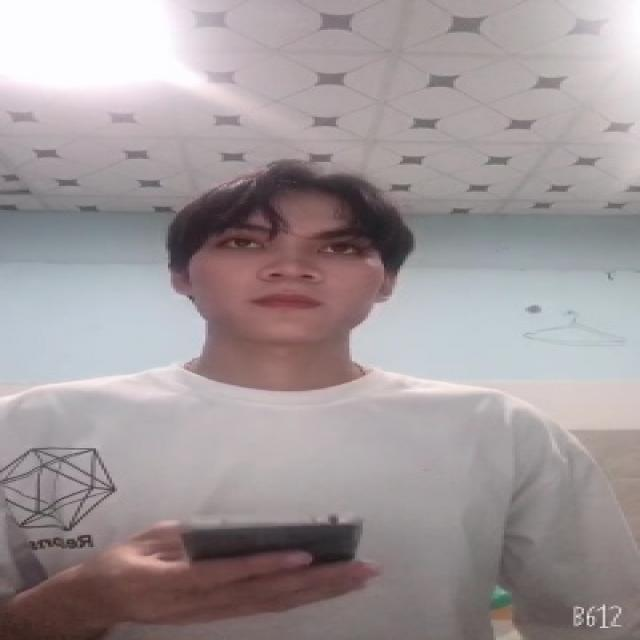Phone: (178, 512, 372, 568)
